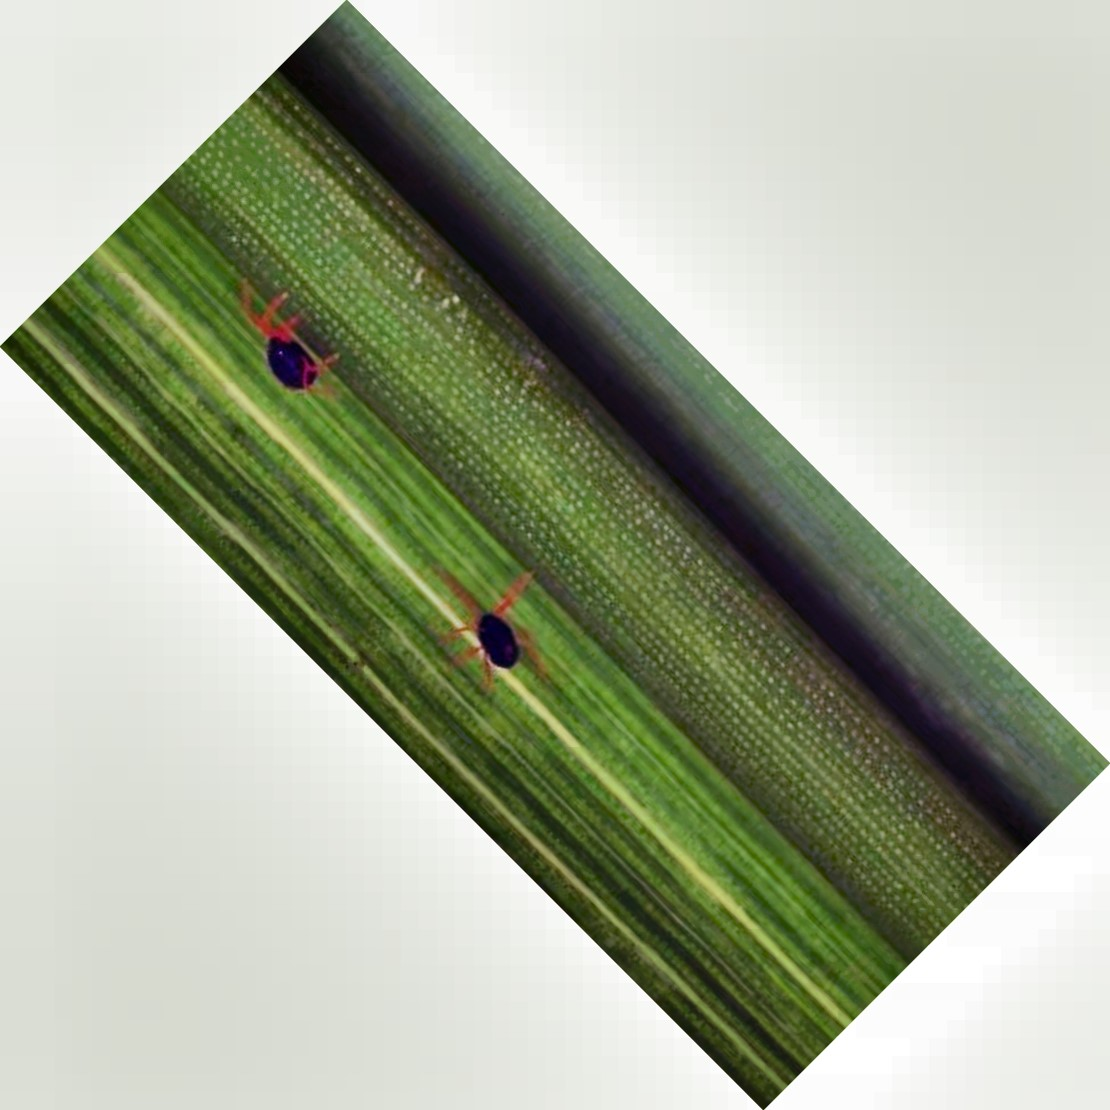Wheat Red Spider: (224, 281, 354, 417)
